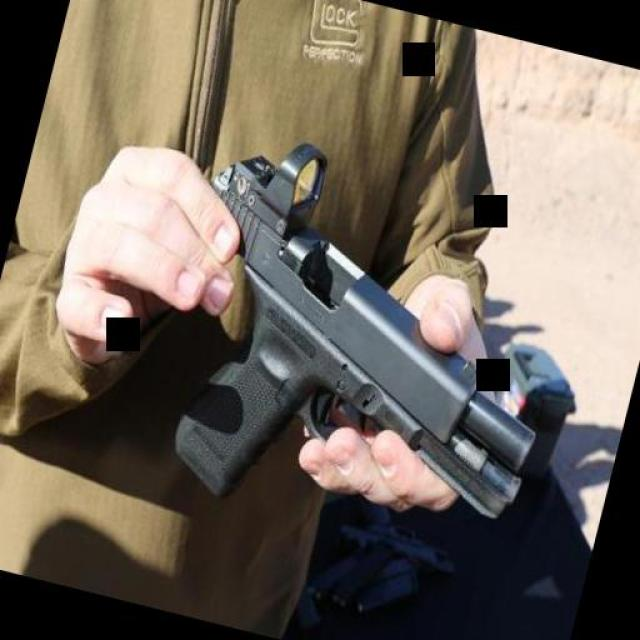gun: (109, 87, 601, 568)
